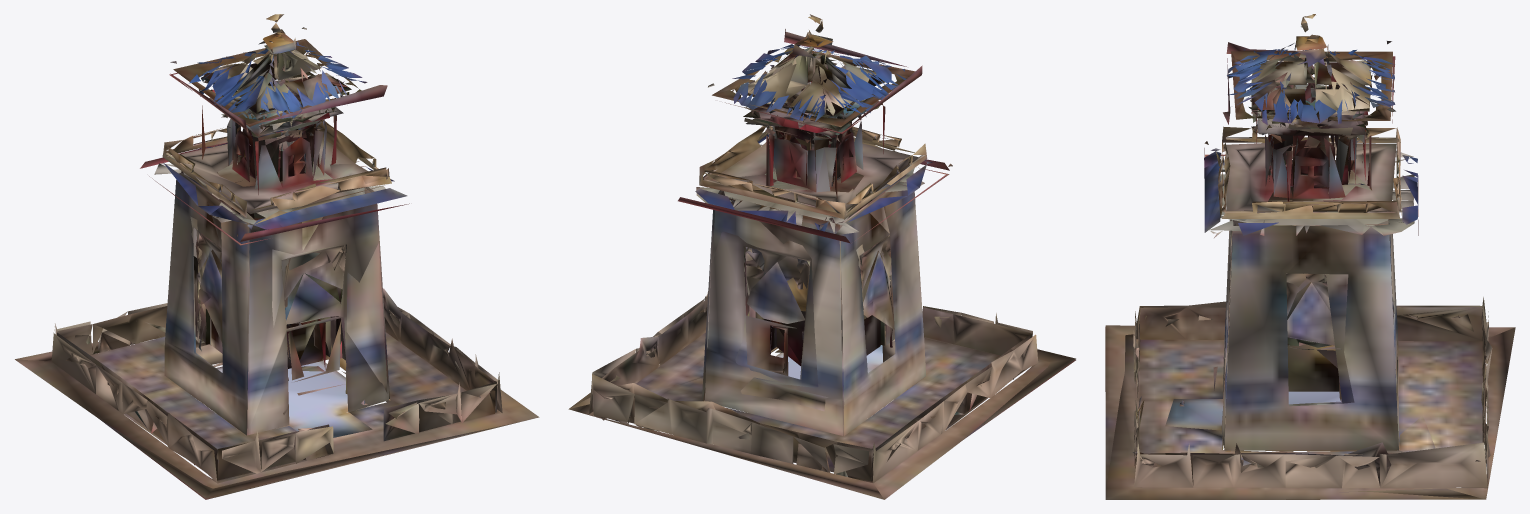
File: Ornate_Watchtower_town.glb
The picture shows the model from 3 angles, left to right: view 1: azimuth 30°, elevation 25°; view 2: azimuth 150°, elevation 25°; view 3: azimuth 270°, elevation 25°; orthographic projection. The views are drawn at different scales.
Parts seen in each view (by area): view 1: Ornate_Watchtower; view 2: Ornate_Watchtower; view 3: Ornate_Watchtower.
Boxes of the visible parts, box(x1,y1,x2,y2) form: Ornate_Watchtower: box(15, 14, 539, 499); Ornate_Watchtower: box(568, 14, 1075, 499); Ornate_Watchtower: box(1105, 14, 1515, 499).
Bounding box in the file's own units: 1.73 × 1.87 × 1.73.
Materials: 1 (1 with a texture image).
